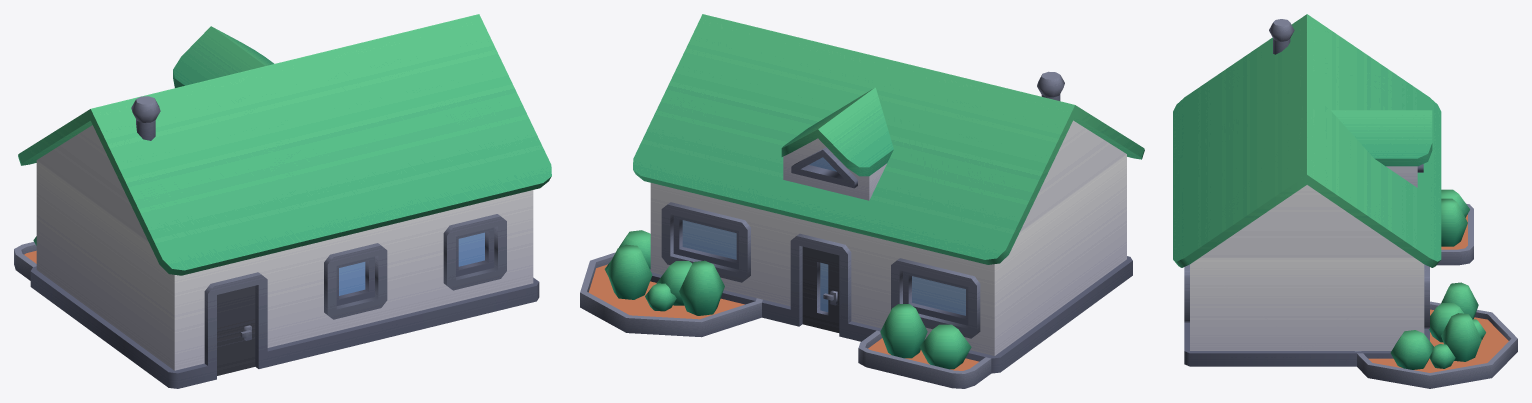
The model's file is building-type-g.draco.glb.
The picture shows the model from 3 angles, left to right: view 1: azimuth 30°, elevation 25°; view 2: azimuth 150°, elevation 25°; view 3: azimuth 270°, elevation 25°; orthographic projection. The views are drawn at different scales.
Visible parts, largest first — view 1: building-type-g; view 2: building-type-g; view 3: building-type-g.
Boxes of the visible parts, x1,y1,x2,y2 form: building-type-g: (14, 14, 551, 388); building-type-g: (580, 14, 1144, 388); building-type-g: (1173, 14, 1517, 388).
Bounding box in the file's own units: 1.45 × 0.7682 × 1.18.
Materials: 1 (1 with a texture image).
